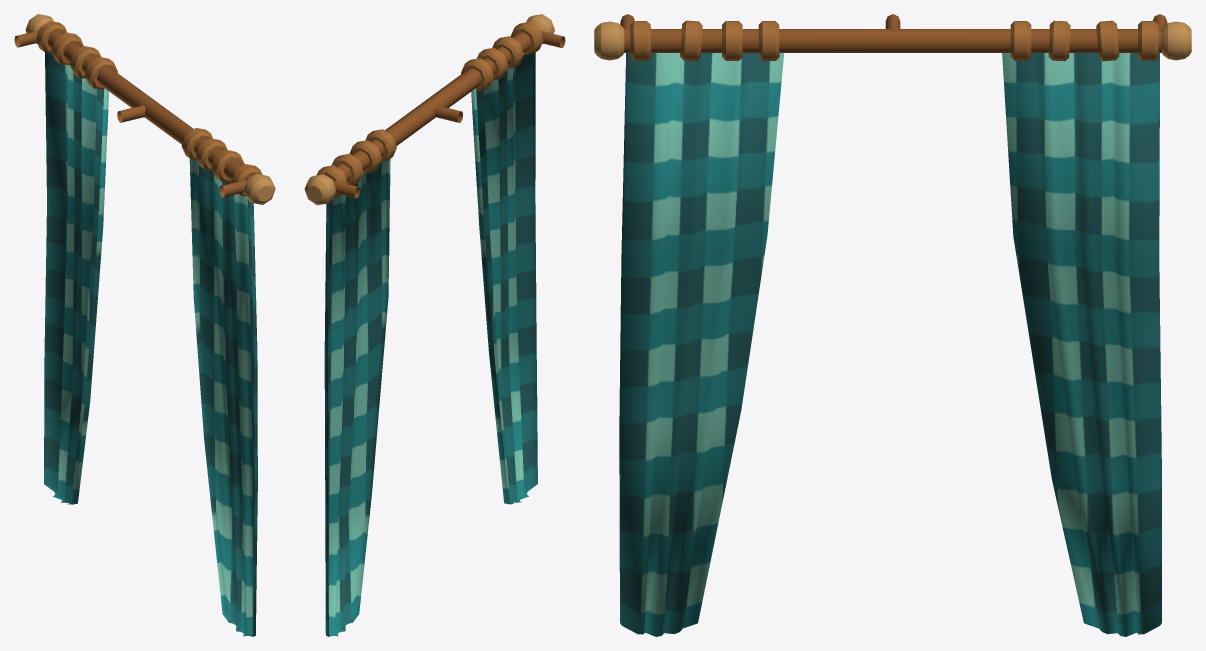
Rendered from Curtains_Long_1_D_D.glb.
3 renders of one model, left to right at view 1: azimuth 30°, elevation 25°; view 2: azimuth 150°, elevation 25°; view 3: azimuth 270°, elevation 25°, orthographic. The views are drawn at different scales.
Visible parts, largest first — view 1: Curtains_Long_1_D_D; view 2: Curtains_Long_1_D_D; view 3: Curtains_Long_1_D_D.
Part boxes in pixels (x1=…): Curtains_Long_1_D_D: x1=14, y1=14, x2=275, y2=636; Curtains_Long_1_D_D: x1=304, y1=14, x2=565, y2=636; Curtains_Long_1_D_D: x1=594, y1=14, x2=1191, y2=636.
Size of the model in its own units: 0.2268 by 2.28 by 2.02.
2 materials, 2 textured.
